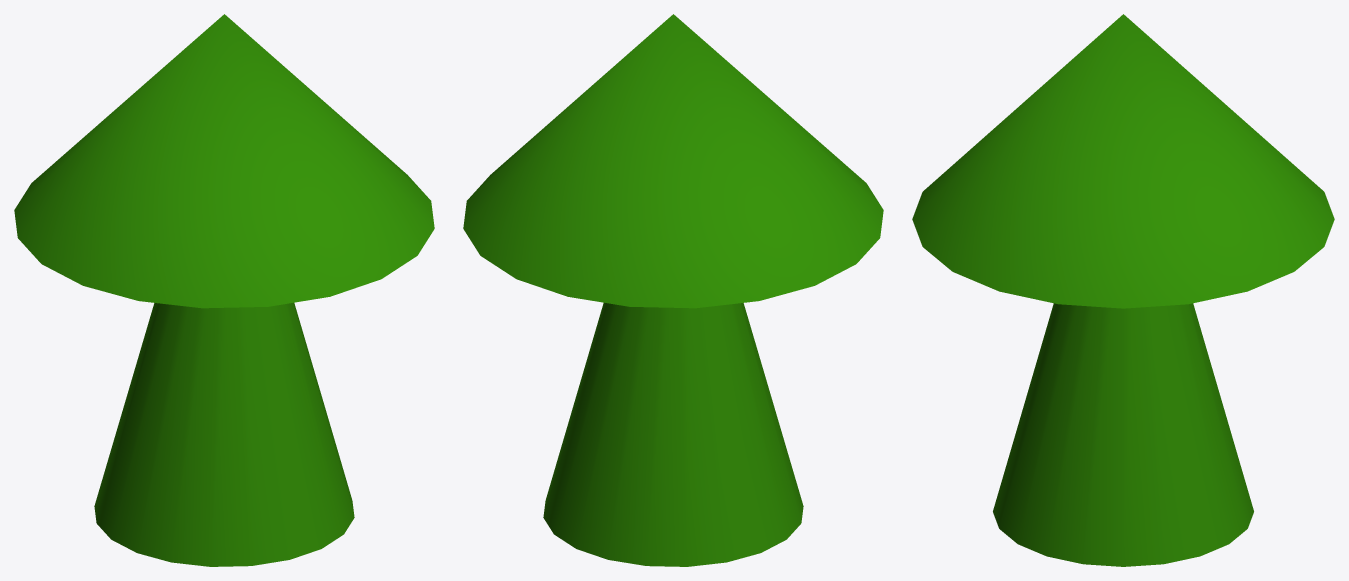
Rendered from jiantou.fbx.
3 views of the same model, side by side, from view 1: azimuth 30°, elevation 25°; view 2: azimuth 150°, elevation 25°; view 3: azimuth 270°, elevation 25° (orthographic).
Parts seen in each view (by area): view 1: polySurface1; view 2: polySurface1; view 3: polySurface1.
Part boxes in pixels (box(x1,y1,x2,y2)): polySurface1: box(14, 14, 434, 566); polySurface1: box(463, 14, 883, 566); polySurface1: box(912, 14, 1334, 566).
Size of the model in its own units: 2.65 by 3.44 by 2.65.
